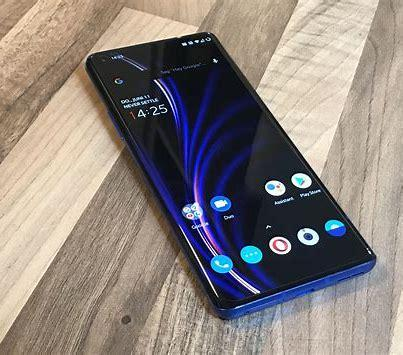Smart Phone: (84, 32, 377, 322)
